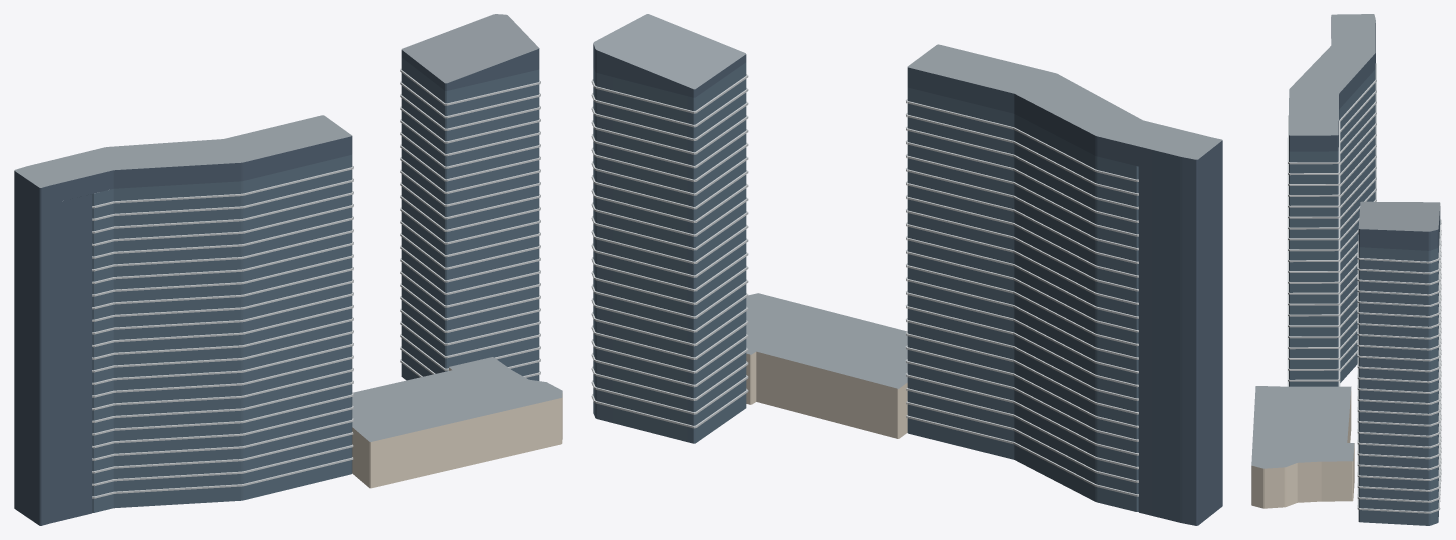
The model's file is lv-cosmopolitan.glb.
3 renders of one model, left to right at view 1: azimuth 30°, elevation 25°; view 2: azimuth 150°, elevation 25°; view 3: azimuth 270°, elevation 25°, orthographic. The views are drawn at different scales.
Visible parts, largest first — view 1: The Cosmopolitan of Las Vegas; view 2: The Cosmopolitan of Las Vegas; view 3: The Cosmopolitan of Las Vegas.
Boxes of the visible parts, left/top/right/bottom form: The Cosmopolitan of Las Vegas: left=14, top=14, right=562, bottom=525; The Cosmopolitan of Las Vegas: left=591, top=14, right=1222, bottom=525; The Cosmopolitan of Las Vegas: left=1251, top=14, right=1441, bottom=525.
Bounding box in the file's own units: 297 × 184 × 108.
